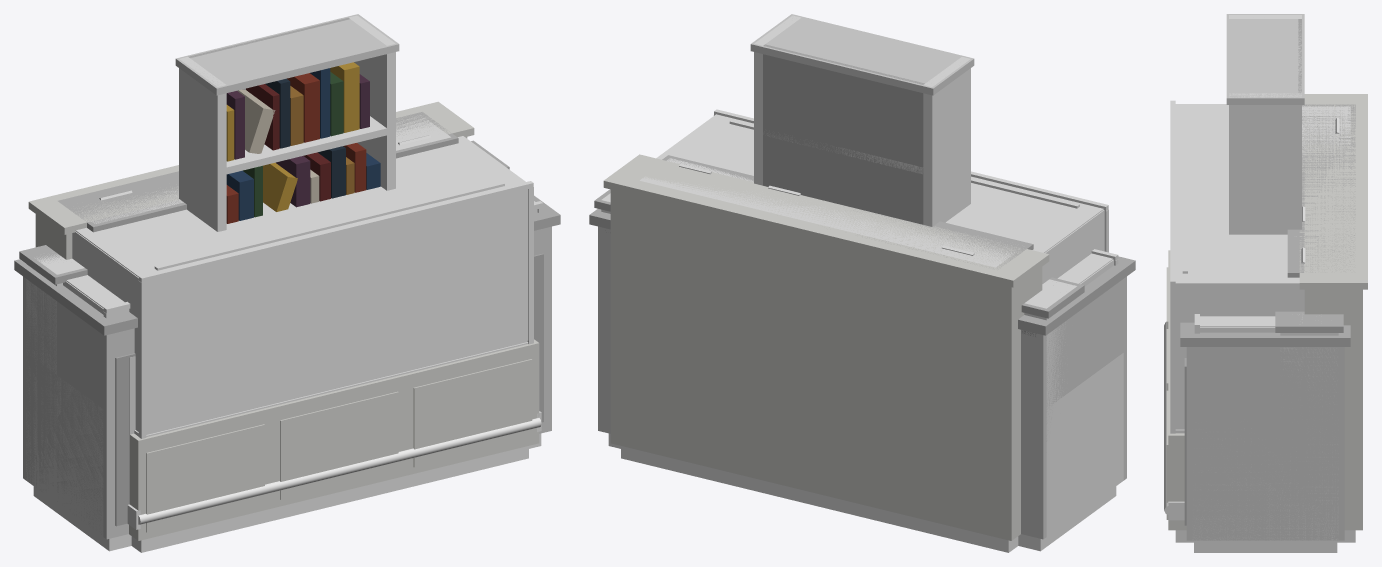
Rendered from furn_shop.glb.
3 views of the same model, side by side, from view 1: azimuth 30°, elevation 25°; view 2: azimuth 150°, elevation 25°; view 3: azimuth 270°, elevation 25° (orthographic). The views are drawn at different scales.
Parts seen in each view (by area): view 1: fridge_meat-4, fridge_meat-1, cafe_counter-tint-1, bookshelf-tint-0, bookshelf-1, pharmacy_counter-1, fridge_meat-2, bread_case_glass-tint-1, fridge_meat-0, cafe_counter-2, bread_case_glass-2, pharmacy_counter-4 (+2 smaller); view 2: fridge_meat-1, bookshelf-tint-0, cafe_counter-tint-1, pharmacy_counter-1, fridge_meat-4, bread_case_glass-tint-1, fridge_meat-0, bread_case_glass-4, fridge_meat-2, pharmacy_counter-4, bread_case_glass-2, pharmacy_counter-0; view 3: cafe_counter-tint-1, fridge_meat-1, bookshelf-tint-0, fridge_meat-4, bread_case_glass-4, bread_case_glass-tint-1, pharmacy_counter-1, fridge_meat-2, cafe_counter-0, pharmacy_counter-4, bread_case_glass-2, cafe_counter-2 (+2 smaller).
Boxes of the visible parts, x1,y1,x2,y2 form: fridge_meat-4: (72, 136, 528, 433); fridge_meat-1: (28, 101, 539, 540); cafe_counter-tint-1: (14, 195, 560, 539); bookshelf-tint-0: (175, 14, 399, 231); bookshelf-1: (226, 62, 380, 223); pharmacy_counter-1: (19, 140, 509, 536); fridge_meat-2: (134, 181, 533, 438); bread_case_glass-tint-1: (58, 112, 458, 232); fridge_meat-0: (131, 446, 528, 552); cafe_counter-2: (127, 411, 541, 529); bread_case_glass-2: (154, 181, 504, 270); pharmacy_counter-4: (63, 201, 537, 316); fridge_meat-1: (603, 154, 1049, 540); bookshelf-tint-0: (750, 14, 974, 226); cafe_counter-tint-1: (589, 209, 1135, 539); pharmacy_counter-1: (594, 189, 1123, 536); fridge_meat-4: (656, 114, 1104, 283); bread_case_glass-tint-1: (640, 155, 1033, 269); fridge_meat-0: (621, 446, 1018, 552); bread_case_glass-4: (685, 124, 1065, 242); fridge_meat-2: (713, 109, 1108, 252); pharmacy_counter-4: (1057, 253, 1113, 286); bread_case_glass-2: (729, 119, 1079, 208); pharmacy_counter-0: (1043, 488, 1113, 548); cafe_counter-tint-1: (1180, 322, 1350, 540); fridge_meat-1: (1166, 94, 1367, 530); bookshelf-tint-0: (1226, 14, 1304, 234); fridge_meat-4: (1175, 104, 1304, 429); bread_case_glass-4: (1188, 114, 1287, 272); bread_case_glass-tint-1: (1287, 104, 1355, 277); pharmacy_counter-1: (1192, 311, 1343, 540); fridge_meat-2: (1170, 100, 1184, 433); cafe_counter-0: (1194, 540, 1337, 552); pharmacy_counter-4: (1200, 316, 1275, 332); bread_case_glass-2: (1182, 111, 1187, 273); cafe_counter-2: (1164, 321, 1184, 520).
Bounding box in the file's own units: 2.05 × 1.8 × 0.837.
